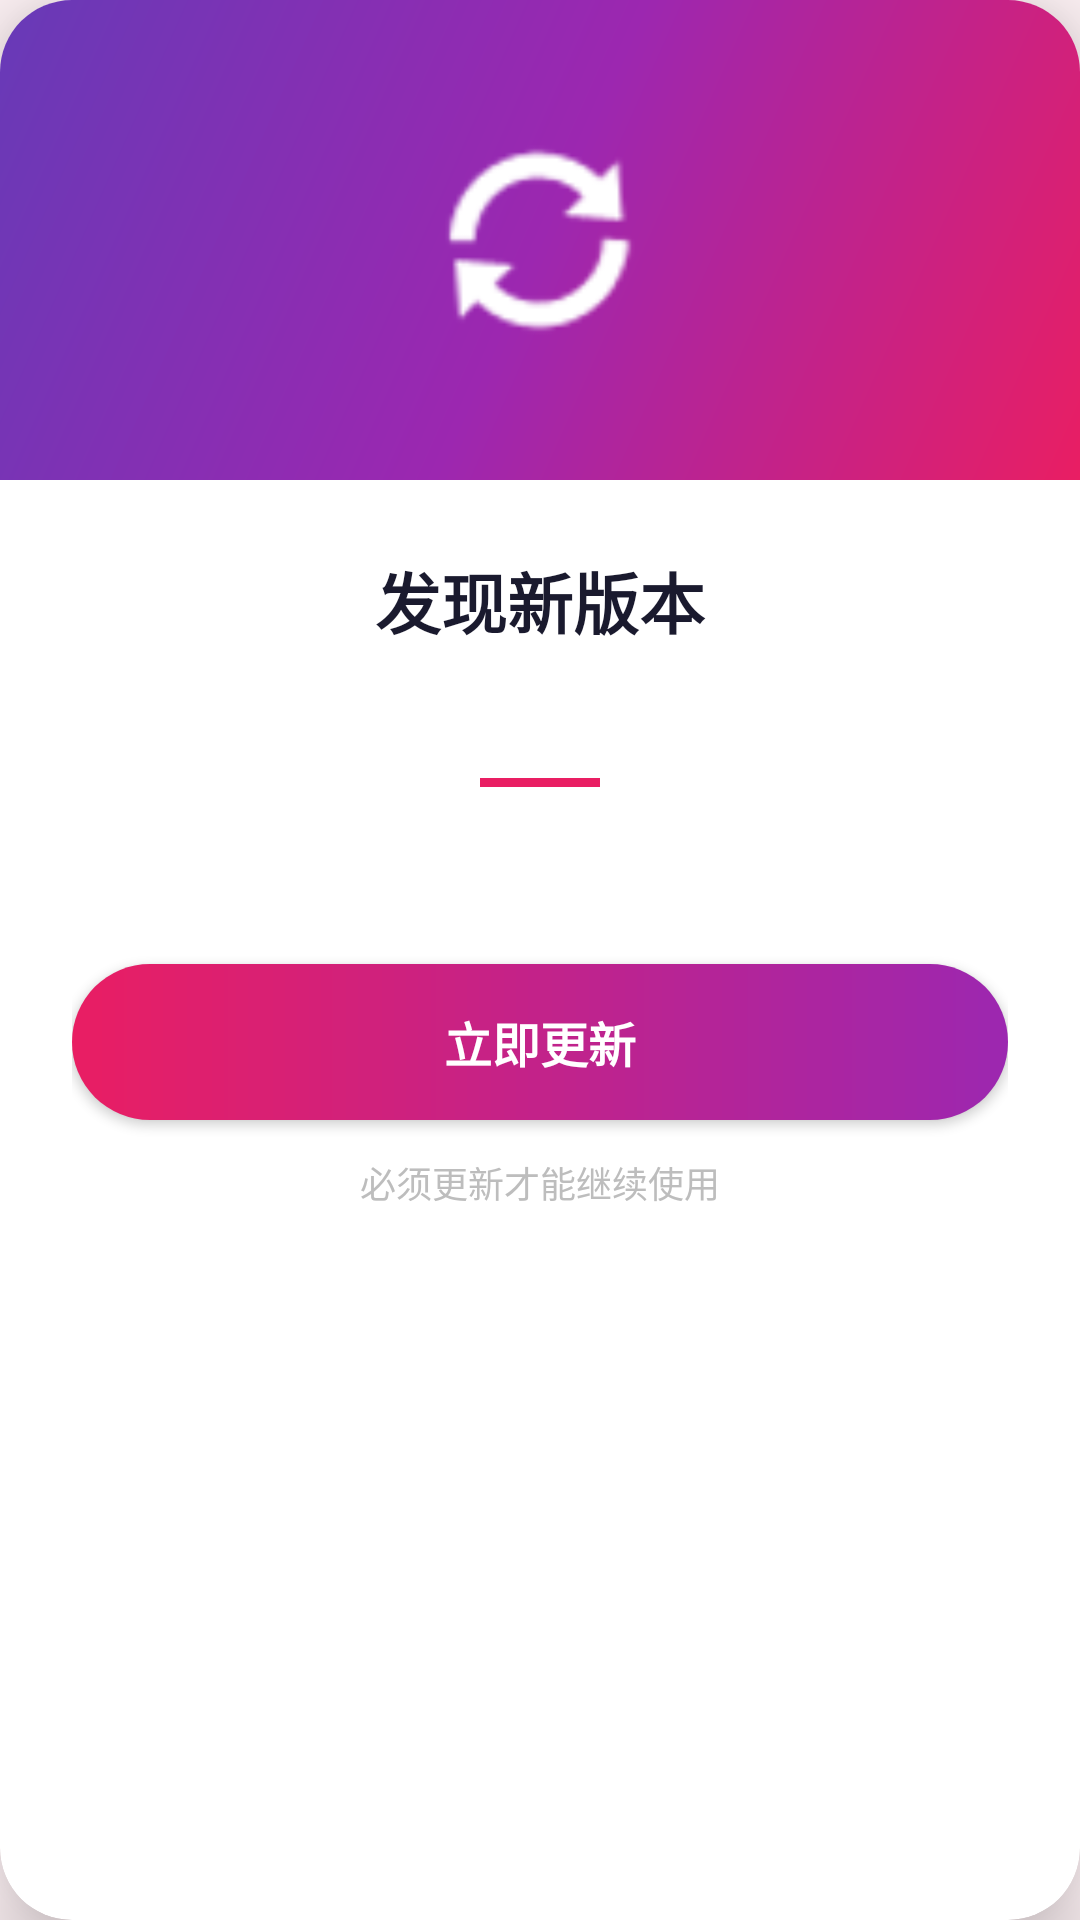

Point at icon controls on the screen. Image size 1080px x 1920px, points as [x,y].
更新图标: [553,240]
